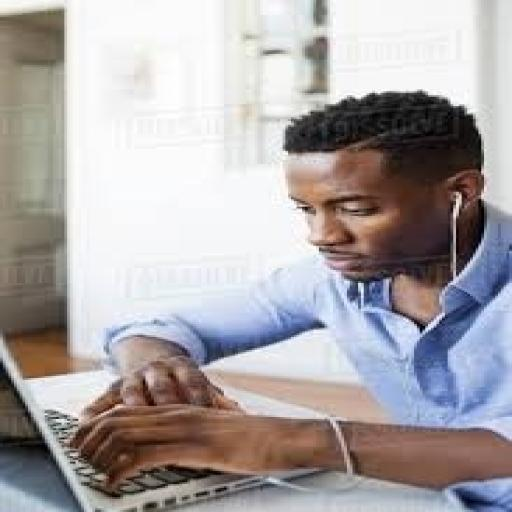listening_to_music: (67, 87, 509, 499)
